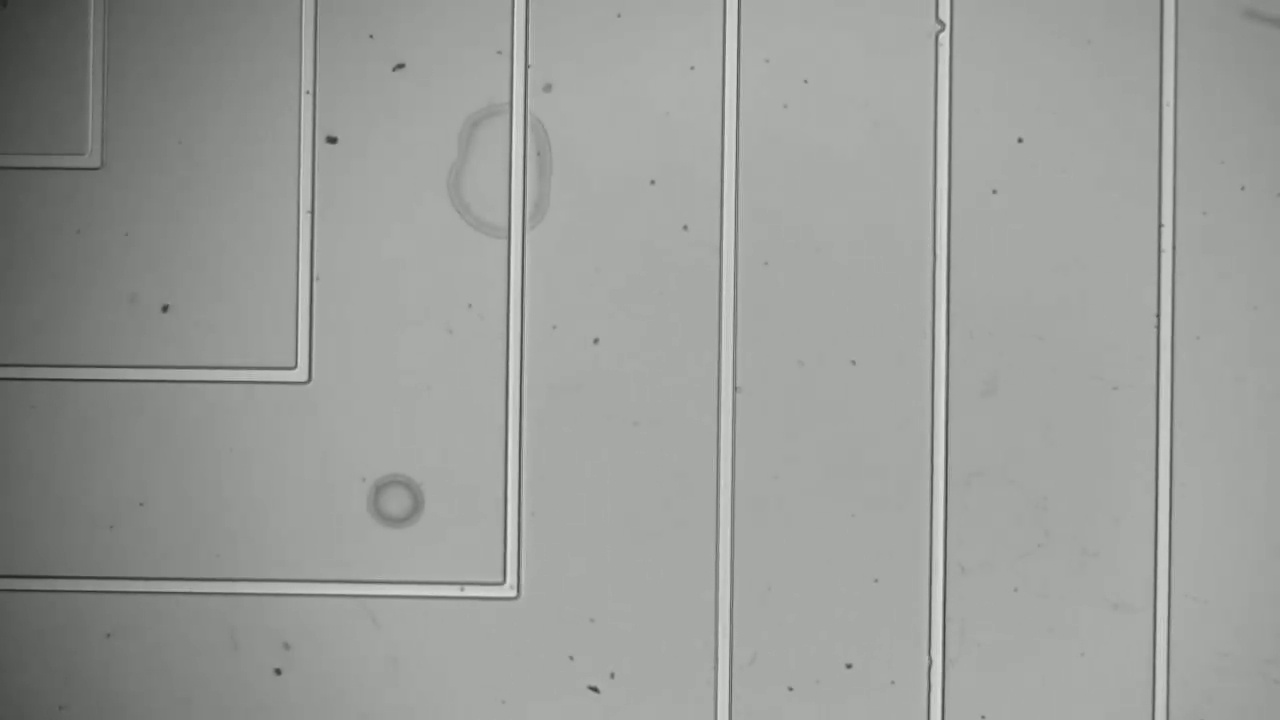edge_bite: (928, 8, 963, 43)
